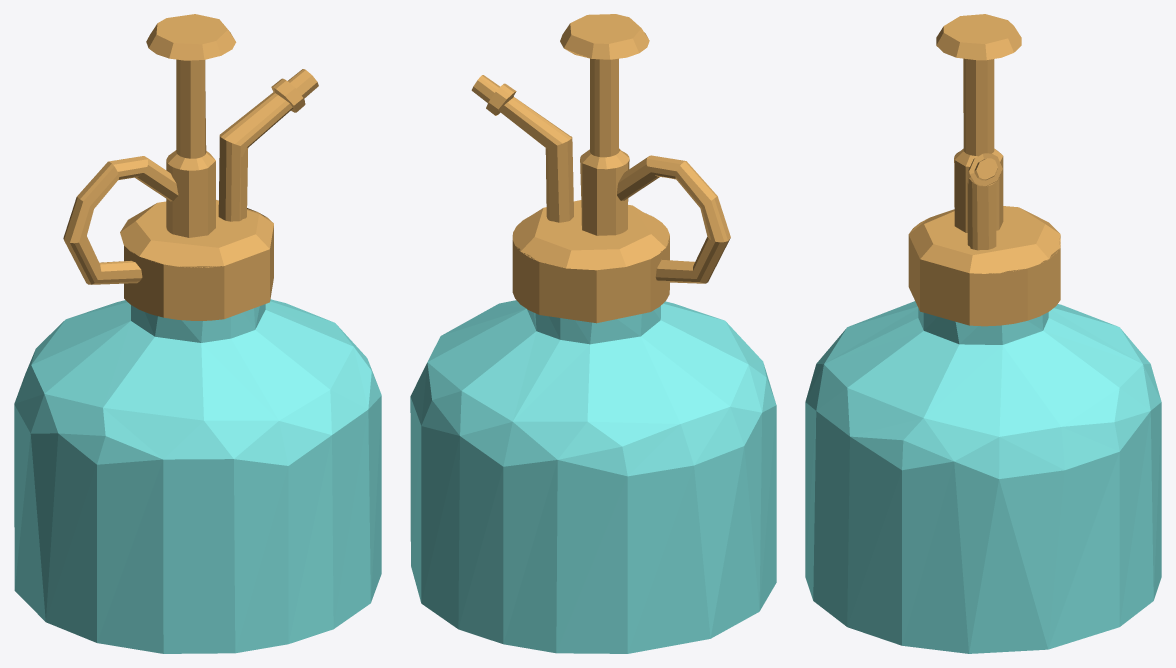
The model's file is mister.fbx.
3 renders of one model, left to right at view 1: azimuth 30°, elevation 25°; view 2: azimuth 150°, elevation 25°; view 3: azimuth 270°, elevation 25°, orthographic.
Visible parts, largest first — view 1: Cylinder, Cylinder.001; view 2: Cylinder, Cylinder.001; view 3: Cylinder, Cylinder.001.
Boxes of the visible parts, box(x1,y1,x2,y2) form: Cylinder: box(14, 299, 381, 653); Cylinder.001: box(63, 14, 318, 320); Cylinder: box(410, 300, 776, 653); Cylinder.001: box(471, 14, 730, 323); Cylinder: box(805, 301, 1161, 653); Cylinder.001: box(908, 14, 1060, 326).
Bounding box in the file's own units: 203 × 336 × 200.
